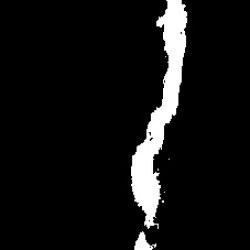crack: (130, 3, 191, 248)
